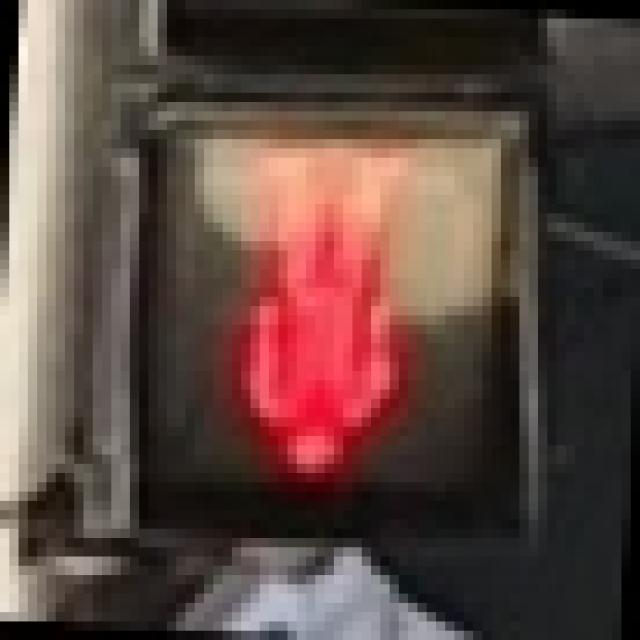red_light: (139, 74, 482, 529)
